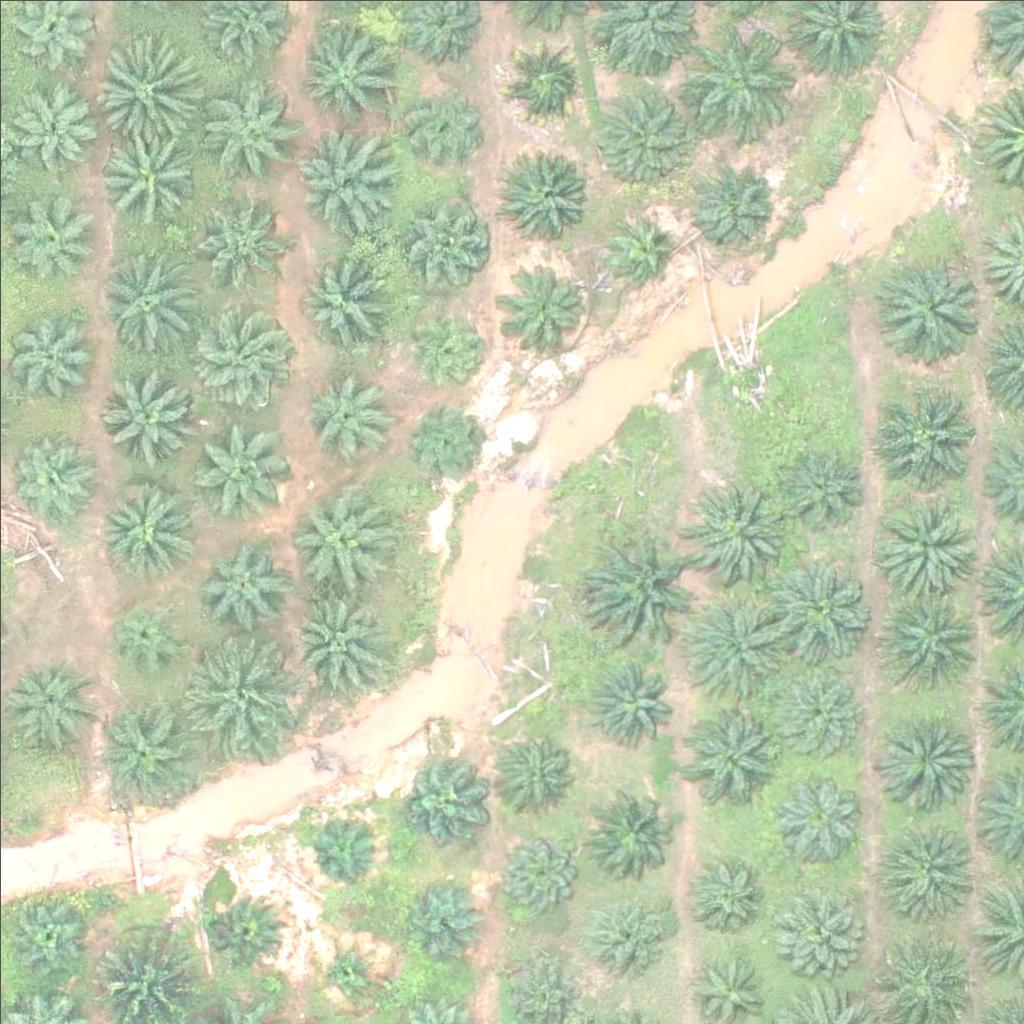Kelapa_Sawit: (184, 634, 297, 748), (586, 530, 699, 643), (91, 30, 203, 144), (684, 593, 796, 706), (874, 813, 974, 914), (873, 705, 973, 806), (92, 699, 192, 800), (92, 119, 192, 220), (200, 71, 300, 172), (293, 25, 393, 126), (699, 25, 799, 126), (884, 253, 984, 354), (192, 305, 292, 406), (300, 364, 400, 465), (690, 481, 790, 582), (765, 564, 865, 665), (881, 495, 981, 596), (881, 583, 981, 684), (765, 767, 865, 867), (679, 703, 779, 803), (294, 245, 394, 345), (291, 129, 391, 229), (592, 91, 692, 191), (96, 479, 196, 579), (96, 366, 196, 466), (97, 251, 197, 351), (188, 421, 288, 521), (284, 591, 384, 691), (293, 485, 393, 585), (875, 386, 975, 486), (686, 847, 774, 936), (772, 671, 860, 760), (396, 749, 484, 837), (13, 188, 101, 276), (9, 76, 97, 164), (190, 187, 278, 275), (402, 300, 490, 388), (398, 82, 486, 170), (689, 162, 777, 250), (3, 657, 91, 745), (492, 722, 579, 810), (497, 829, 584, 917), (587, 890, 674, 978), (591, 790, 678, 878), (771, 878, 858, 966), (399, 882, 486, 970), (1, 889, 88, 977), (401, 199, 488, 287), (499, 258, 586, 346), (503, 153, 590, 241), (503, 35, 590, 123), (7, 313, 94, 401), (10, 436, 97, 524), (200, 536, 287, 624), (401, 399, 488, 487), (586, 653, 673, 741), (777, 446, 864, 534), (599, 208, 674, 284), (211, 893, 286, 969), (108, 599, 183, 675), (305, 811, 380, 886), (316, 934, 379, 997)
